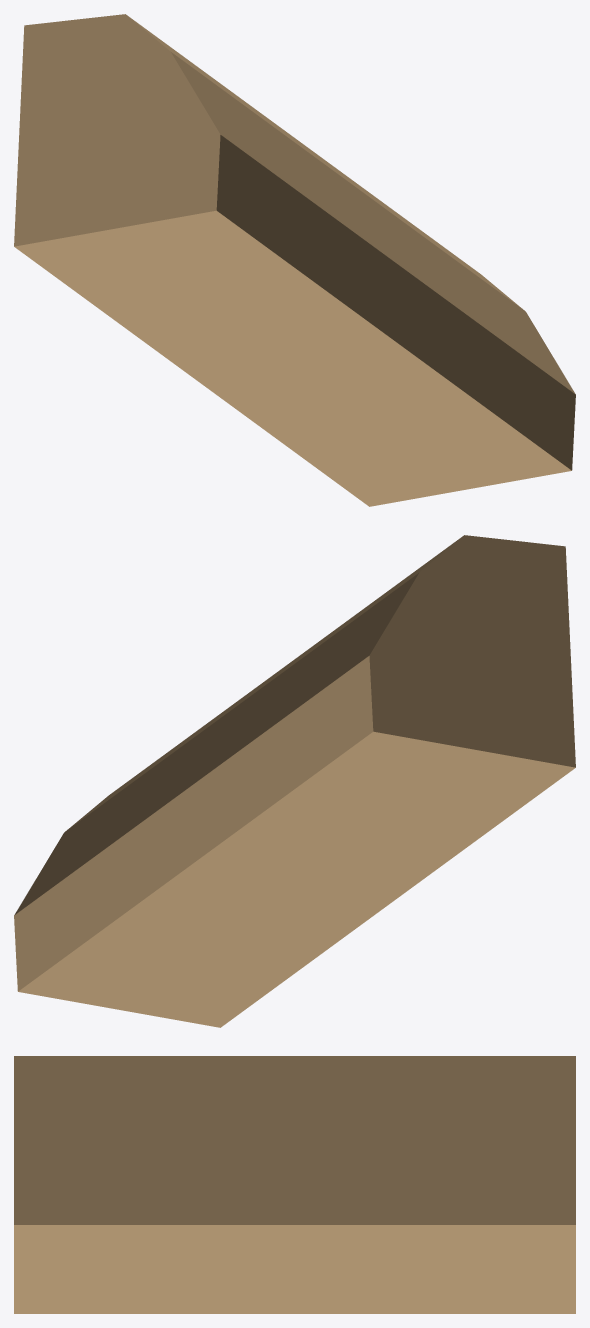
The picture shows the model from 3 angles, top to bottom: view 1: azimuth 30°, elevation 25°; view 2: azimuth 150°, elevation 25°; view 3: azimuth 270°, elevation 25°; orthographic projection. The views are drawn at different scales.
Parts seen in each view (by area): view 1: 0_0_3_2_0_0_1_2_0_2_2; view 2: 0_0_3_2_0_0_1_2_0_2_2; view 3: 0_0_3_2_0_0_1_2_0_2_2.
Boxes of the visible parts, bbox=[...] form: 0_0_3_2_0_0_1_2_0_2_2: bbox=[14, 14, 575, 506]; 0_0_3_2_0_0_1_2_0_2_2: bbox=[14, 535, 575, 1027]; 0_0_3_2_0_0_1_2_0_2_2: bbox=[14, 1056, 575, 1313].
Size of the model in its own units: 8.05 by 8.65 by 24.
